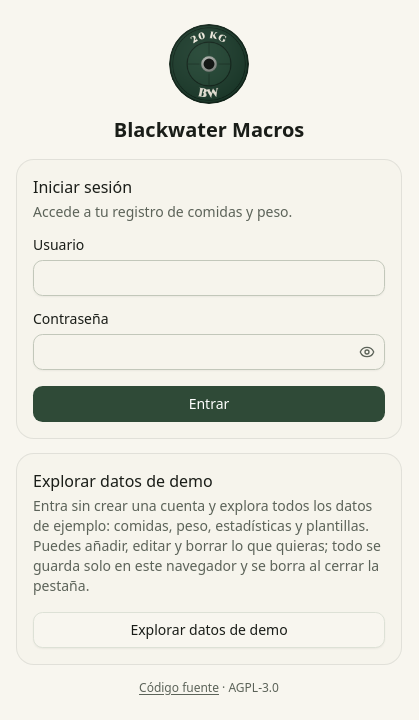
pantalla de inicio de sesión › muestra un mensaje genérico si el servidor falla
Type "ana" into the field labelled "Usuario" at [209, 278], box left=33, top=260, right=385, bottom=296
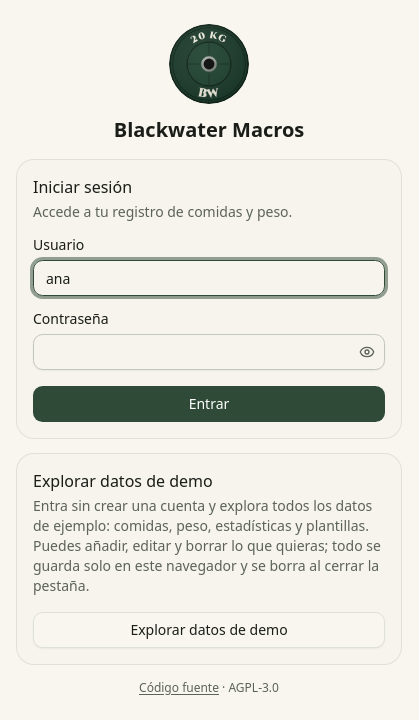
Type "clave" into the password field labelled "Contraseña" at [209, 352], box left=33, top=334, right=385, bottom=370
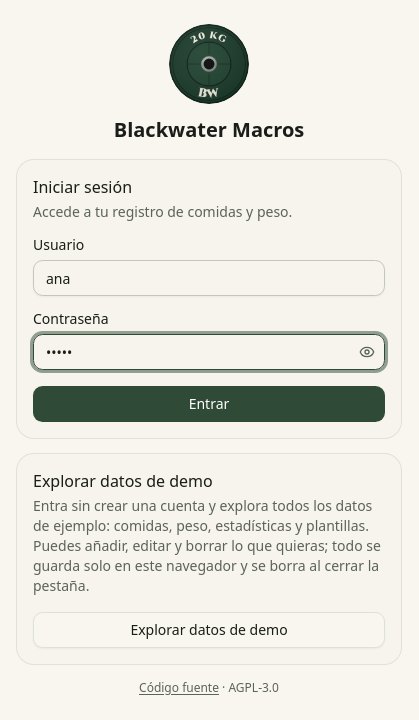
Click the button "Entrar" at [209, 404], box left=33, top=386, right=385, bottom=422
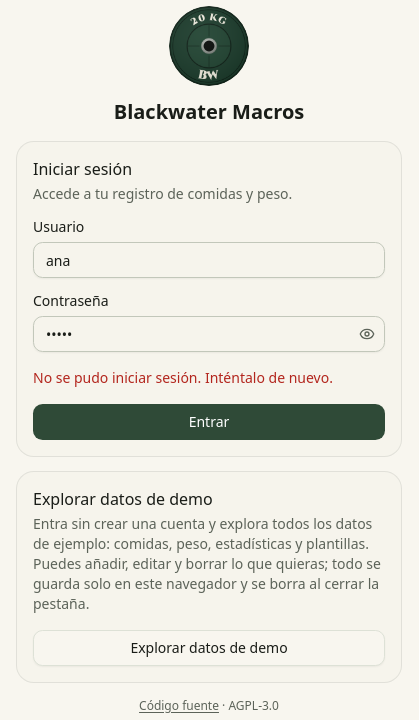
Expected: the message reads "No se pudo iniciar sesión. Inténtalo de nuevo.", left=33, top=368, right=333, bottom=387
